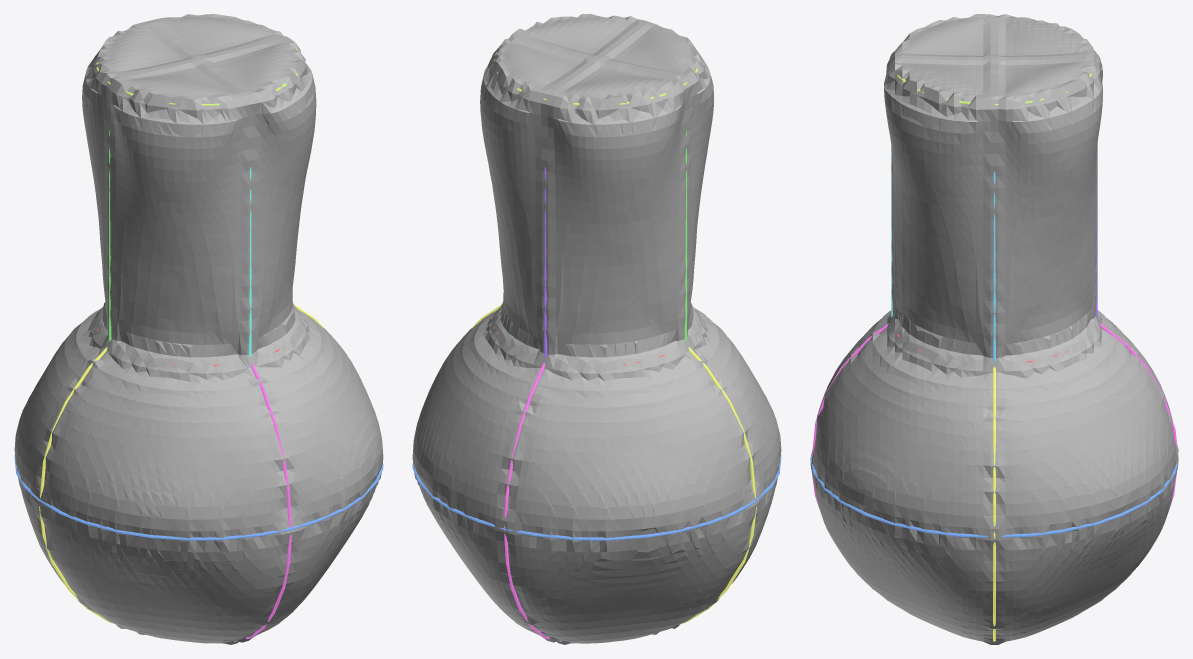
The model's file is flowrep_spherecylinder.gltf.
The picture shows the model from 3 angles, left to right: view 1: azimuth 30°, elevation 25°; view 2: azimuth 150°, elevation 25°; view 3: azimuth 270°, elevation 25°; orthographic projection.
Size of the model in its own units: 0.456 by 0.7856 by 0.4564.
